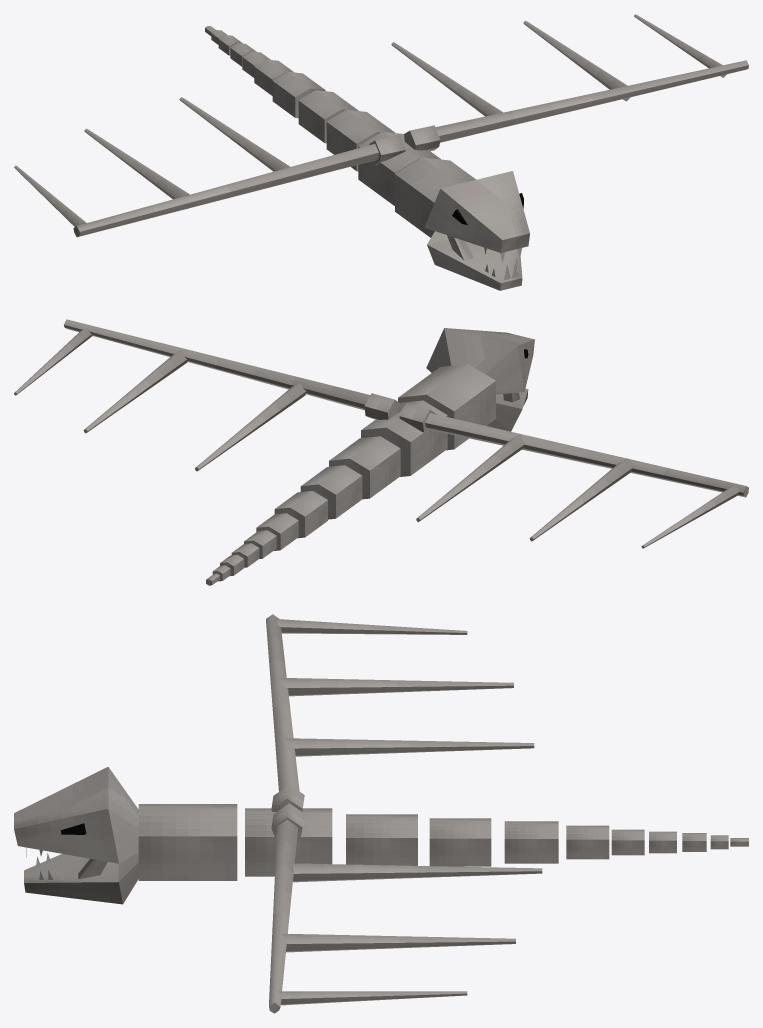
Rendered from Snake_Model1.fbx.
3 views of the same model, one above another, from view 1: azimuth 30°, elevation 25°; view 2: azimuth 150°, elevation 25°; view 3: azimuth 270°, elevation 25° (orthographic). The views are drawn at different scales.
Parts seen in each view (by area): view 1: head_top, wing_left, wing_right, body1, head_bottom, body2, body3, body4, body5, wing_rightBone1, wing_leftBone1, wing_leftBone2 (+6 smaller); view 2: head_top, wing_left, body1, wing_right, body2, body3, body4, body5, wing_rightBone1, wing_leftBone1, wing_leftBone2, wing_rightBone2 (+7 smaller); view 3: head_top, body1, head_bottom, body2, body3, wing_rightBone1, wing_right, body4, wing_leftBone1, wing_left, wing_rightBone2, wing_leftBone2 (+5 smaller).
Boxes of the visible parts, box(x1,y1,x2,y2) form: head_top: box(424, 171, 529, 252); wing_left: box(73, 144, 378, 237); wing_right: box(435, 60, 748, 142); body1: box(395, 157, 476, 237); head_bottom: box(427, 231, 522, 290); body2: box(358, 131, 441, 205); body3: box(326, 109, 395, 171); body4: box(298, 90, 358, 143); body5: box(272, 72, 325, 118); wing_rightBone1: box(391, 42, 503, 116); wing_leftBone1: box(179, 97, 290, 171); wing_leftBone2: box(84, 128, 189, 209); head_top: box(426, 328, 534, 394); wing_left: box(425, 413, 748, 497); body1: box(398, 364, 495, 450); wing_right: box(64, 319, 370, 410); body2: box(361, 400, 447, 476); body3: box(329, 436, 400, 499); body4: box(300, 465, 362, 519); body5: box(274, 491, 327, 538); wing_rightBone1: box(195, 383, 306, 471); wing_leftBone1: box(416, 434, 524, 522); wing_leftBone2: box(529, 458, 632, 541); wing_rightBone2: box(83, 350, 187, 433); head_top: box(14, 766, 138, 863); body1: box(138, 804, 237, 880); head_bottom: box(24, 853, 138, 904); body2: box(245, 808, 332, 876); body3: box(346, 814, 417, 865); wing_rightBone1: box(293, 863, 542, 882); wing_right: box(269, 820, 297, 1013); body4: box(429, 818, 491, 866); wing_leftBone1: box(285, 738, 534, 756); wing_left: box(266, 614, 299, 791); wing_rightBone2: box(282, 933, 515, 952); wing_leftBone2: box(280, 678, 513, 696).
Bounding box in the file's own units: 11.03 × 1.3 × 8.78.
3 materials, 1 textured.
